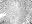person: (1, 13, 8, 18)
